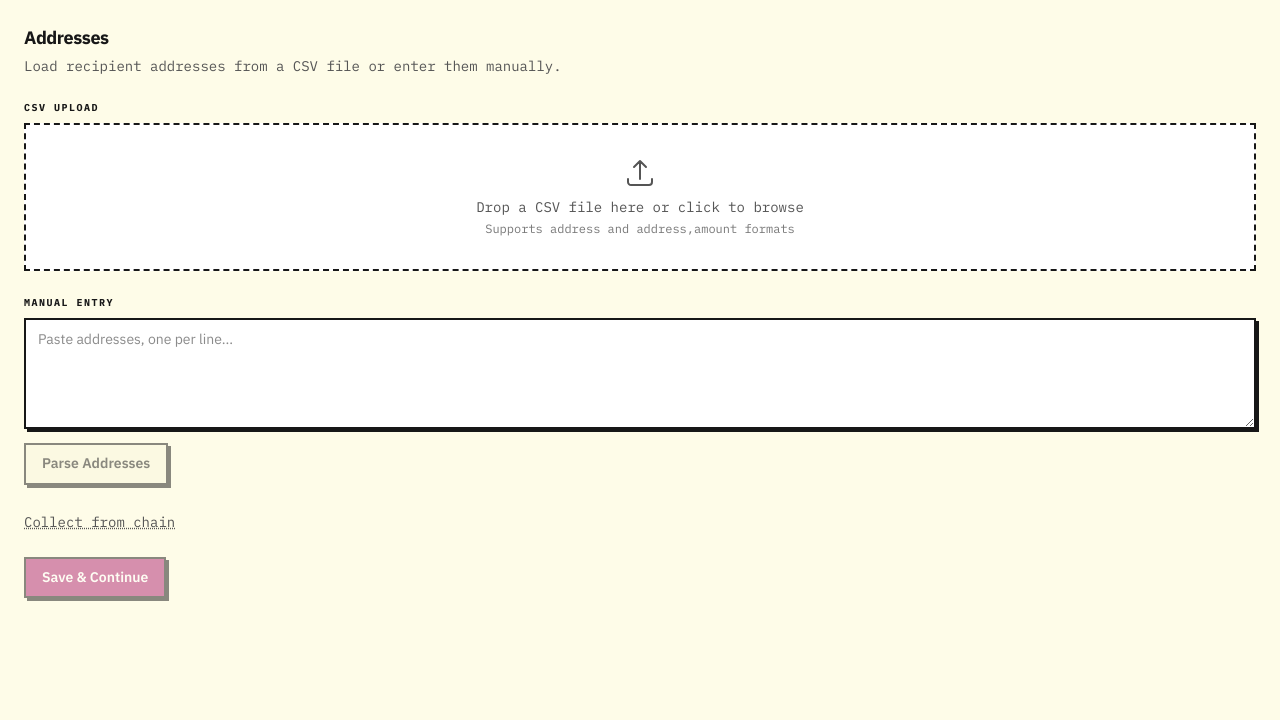
Test case: AddressesStep › enables continue after parsing addresses
Step 1. Type "0x1234567890abcdef1234567890abcdef12345678" into the text box with placeholder "Paste addresses, one per line..." → point(640, 374), box [24,318,1256,429]
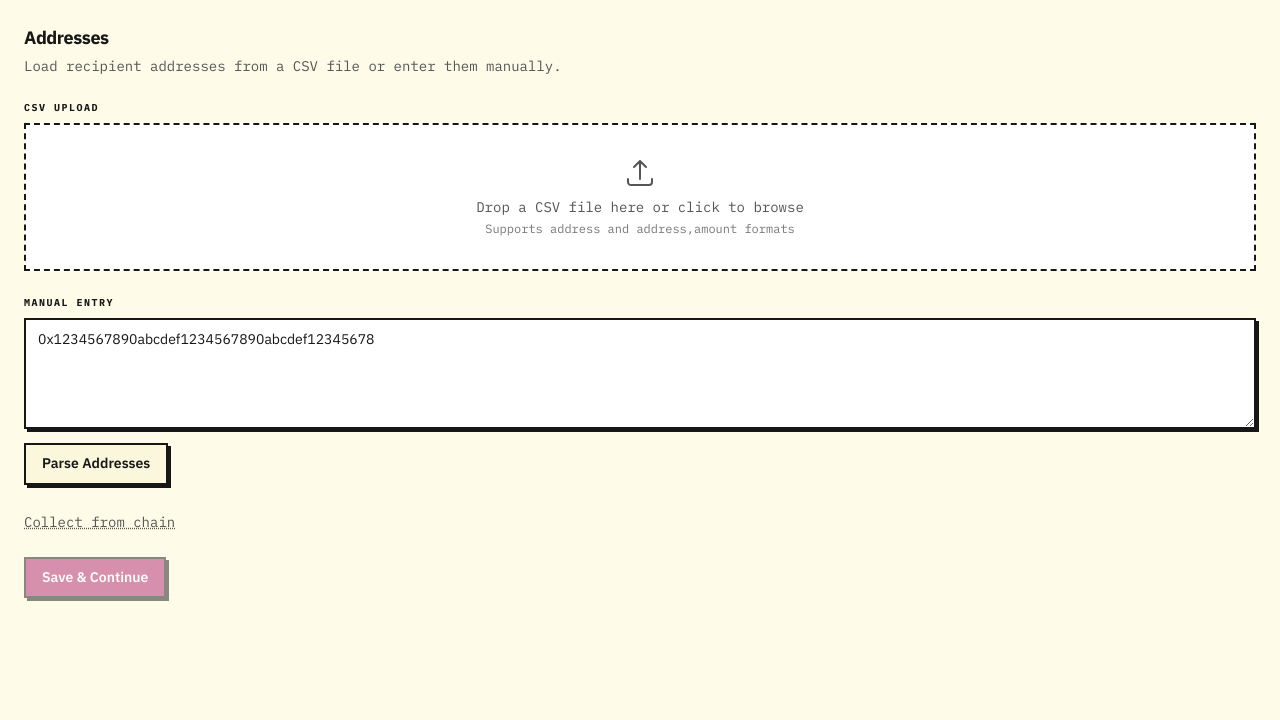
Step 2. Click the button "Parse Addresses" → point(96, 464), box [24,443,168,484]
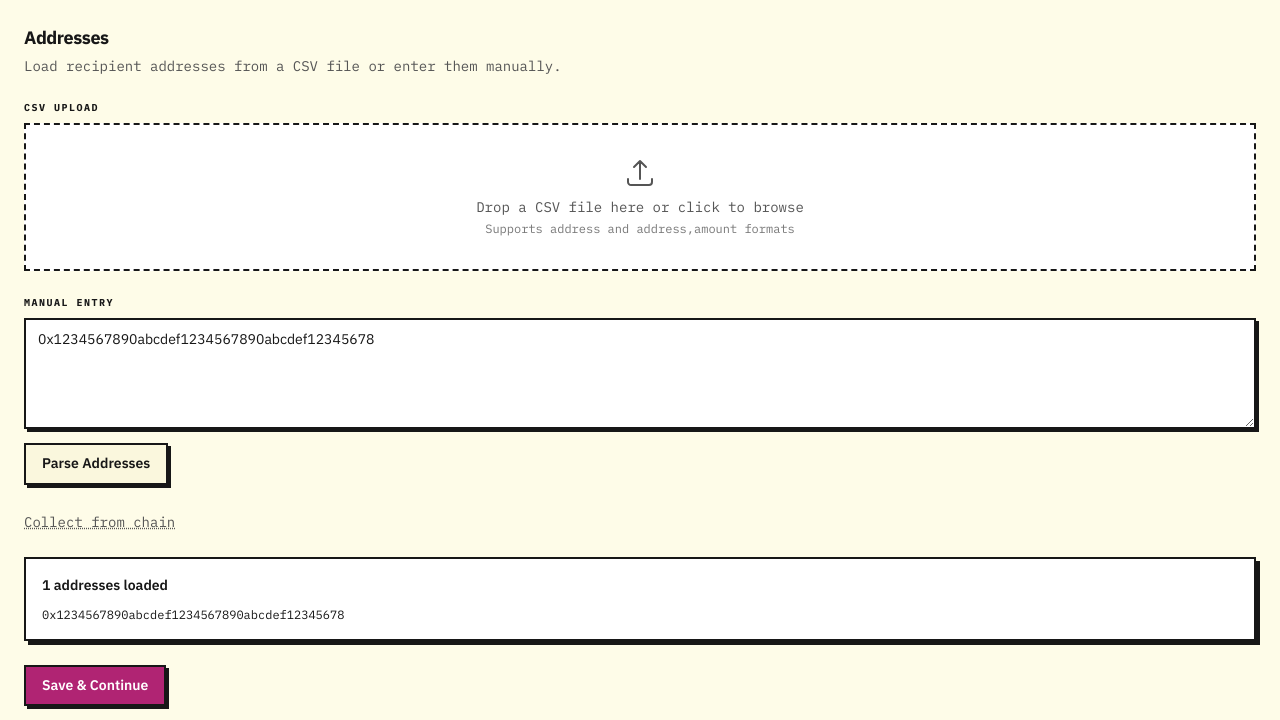
Expected: the button "Save & Continue" is enabled, [24,664,166,706]
